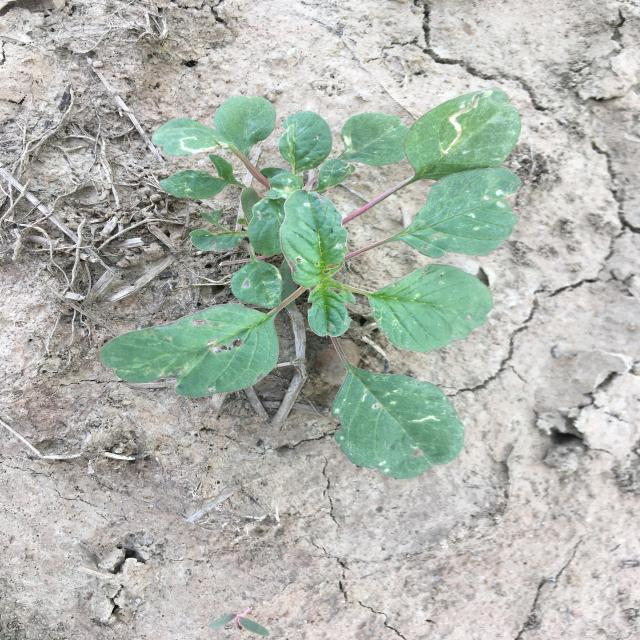PalmerAmaranth: (100, 88, 521, 480)
